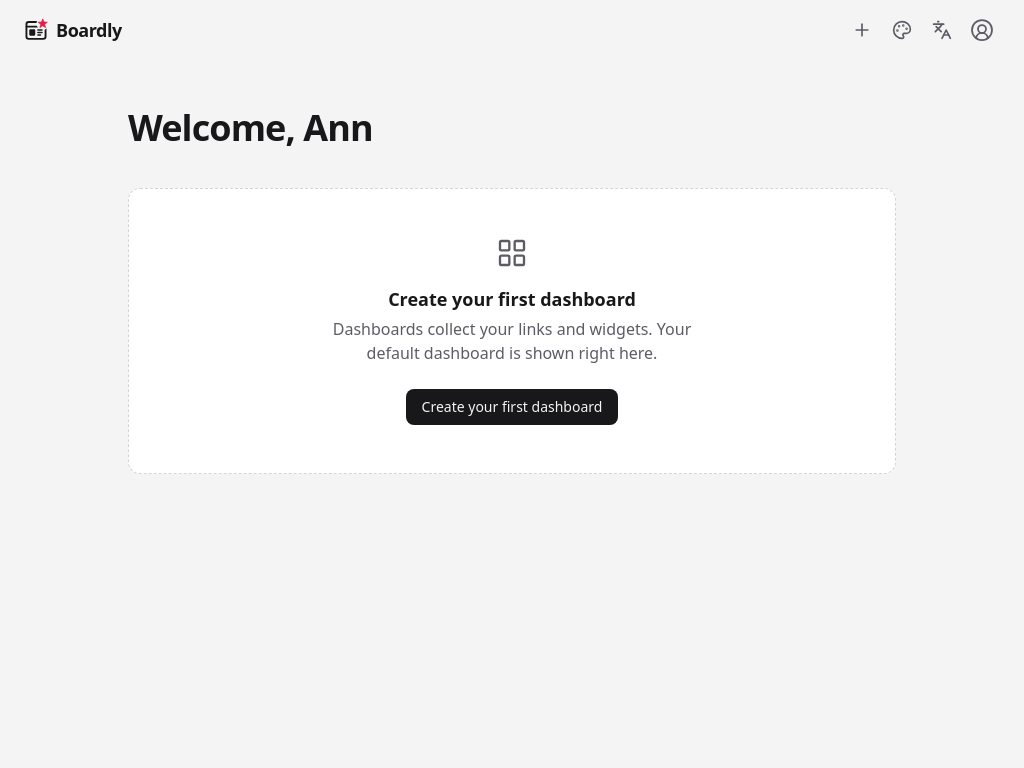
Scenario: home page › greets a user by name and offers the first dashboard
Check: the heading "Welcome, Ann" is shown, box [128,103,373,152]
Click the link "Create your first dashboard": {"x": 512, "y": 407} [406,389,618,425]
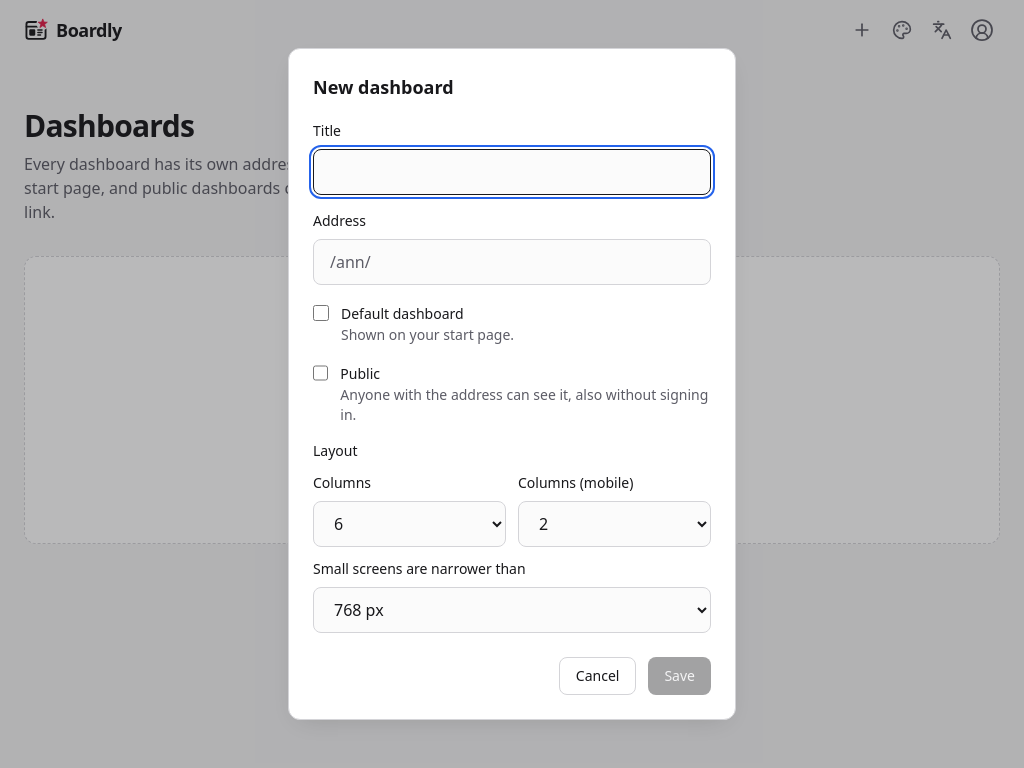
Check: the dialog "New dashboard" is shown, box [288,48,736,720]
